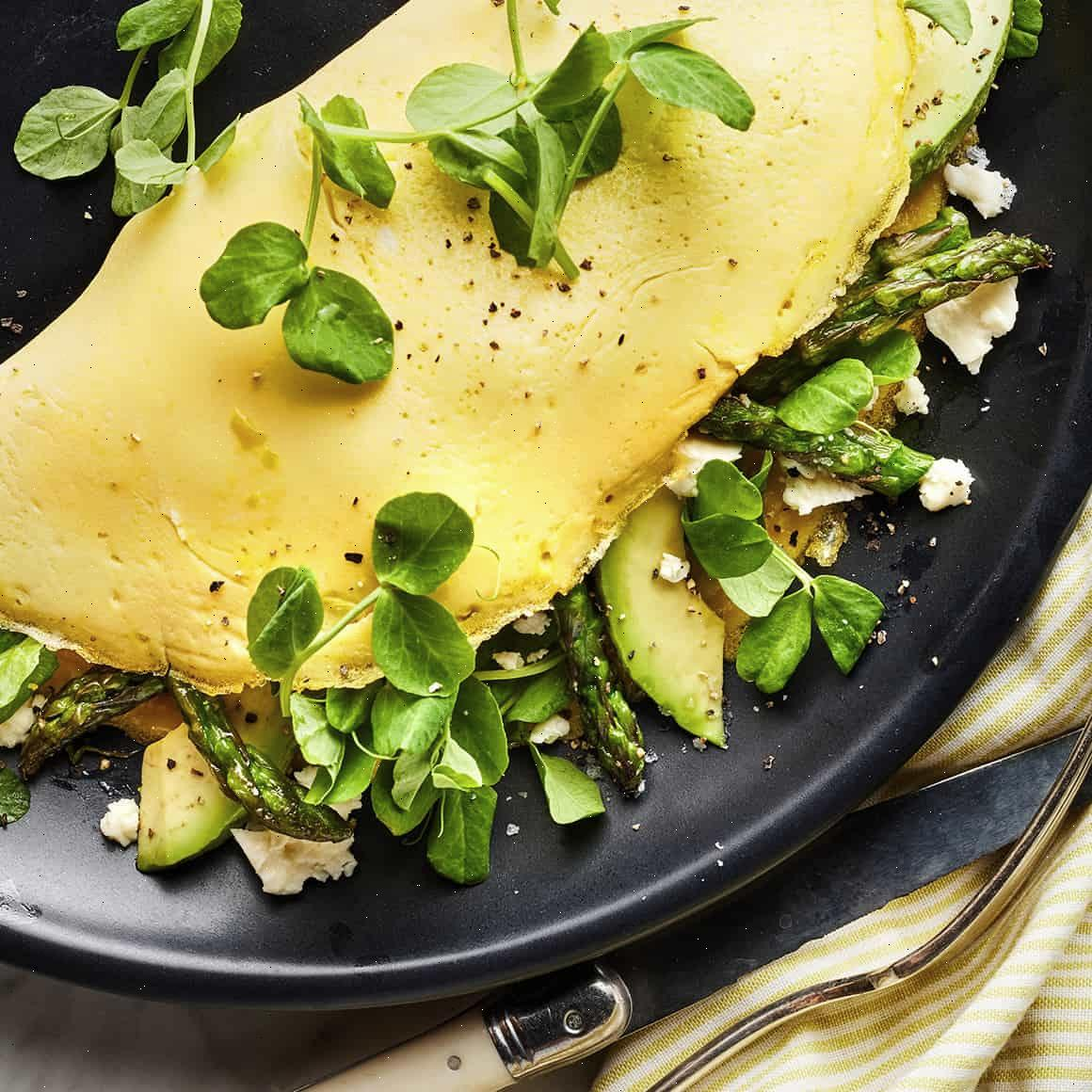omelette: (7, 1, 1061, 756)
